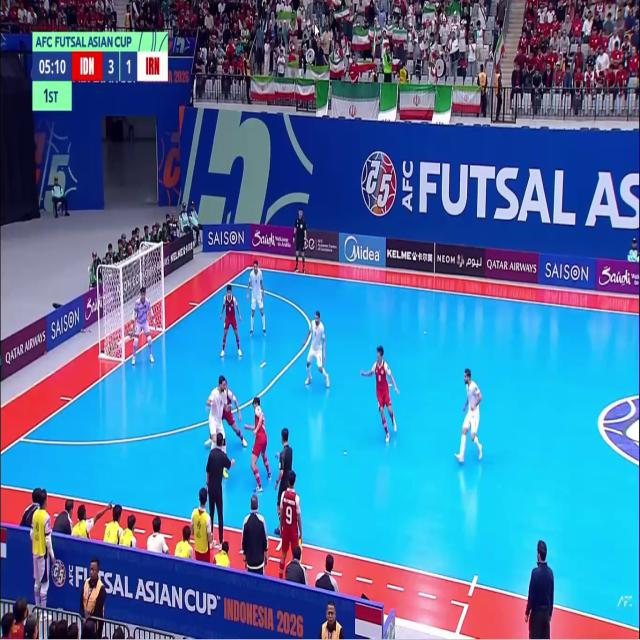keeper: (132, 286, 155, 364), (295, 208, 307, 272)
official: (526, 540, 553, 639), (242, 495, 267, 574)
referee: (295, 209, 306, 273)
